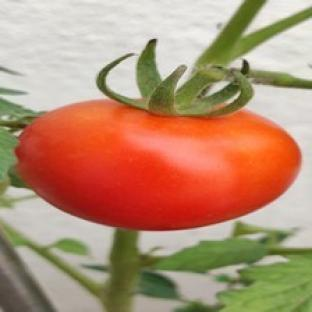Tomato: (17, 101, 300, 229)
